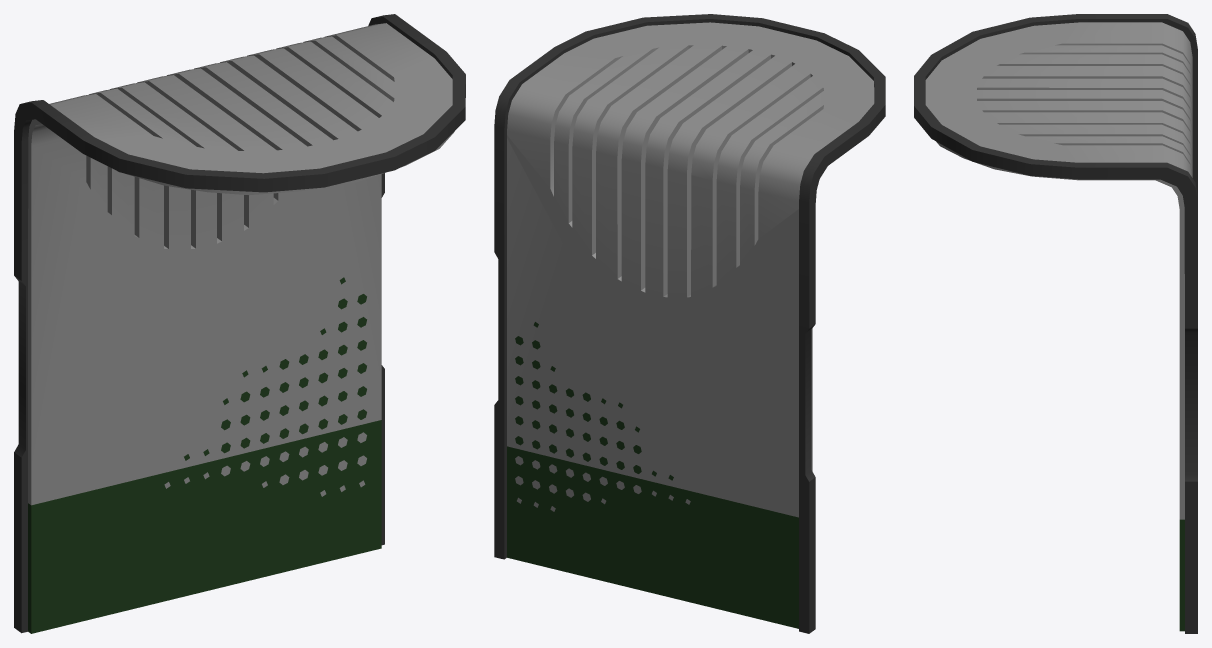
The model's file is W_O_Shade_001_L1.fbx.
3 renders of one model, left to right at view 1: azimuth 30°, elevation 25°; view 2: azimuth 150°, elevation 25°; view 3: azimuth 270°, elevation 25°, orthographic. The views are drawn at different scales.
Visible parts, largest first — view 1: W_O_Shade_001_L1; view 2: W_O_Shade_001_L1; view 3: W_O_Shade_001_L1.
Part boxes in pixels (x1,y1,x2,y2): W_O_Shade_001_L1: [14, 14, 465, 633]; W_O_Shade_001_L1: [494, 14, 885, 633]; W_O_Shade_001_L1: [914, 14, 1197, 633].
Size of the model in its own units: 2.8 by 3.96 by 2.19.
